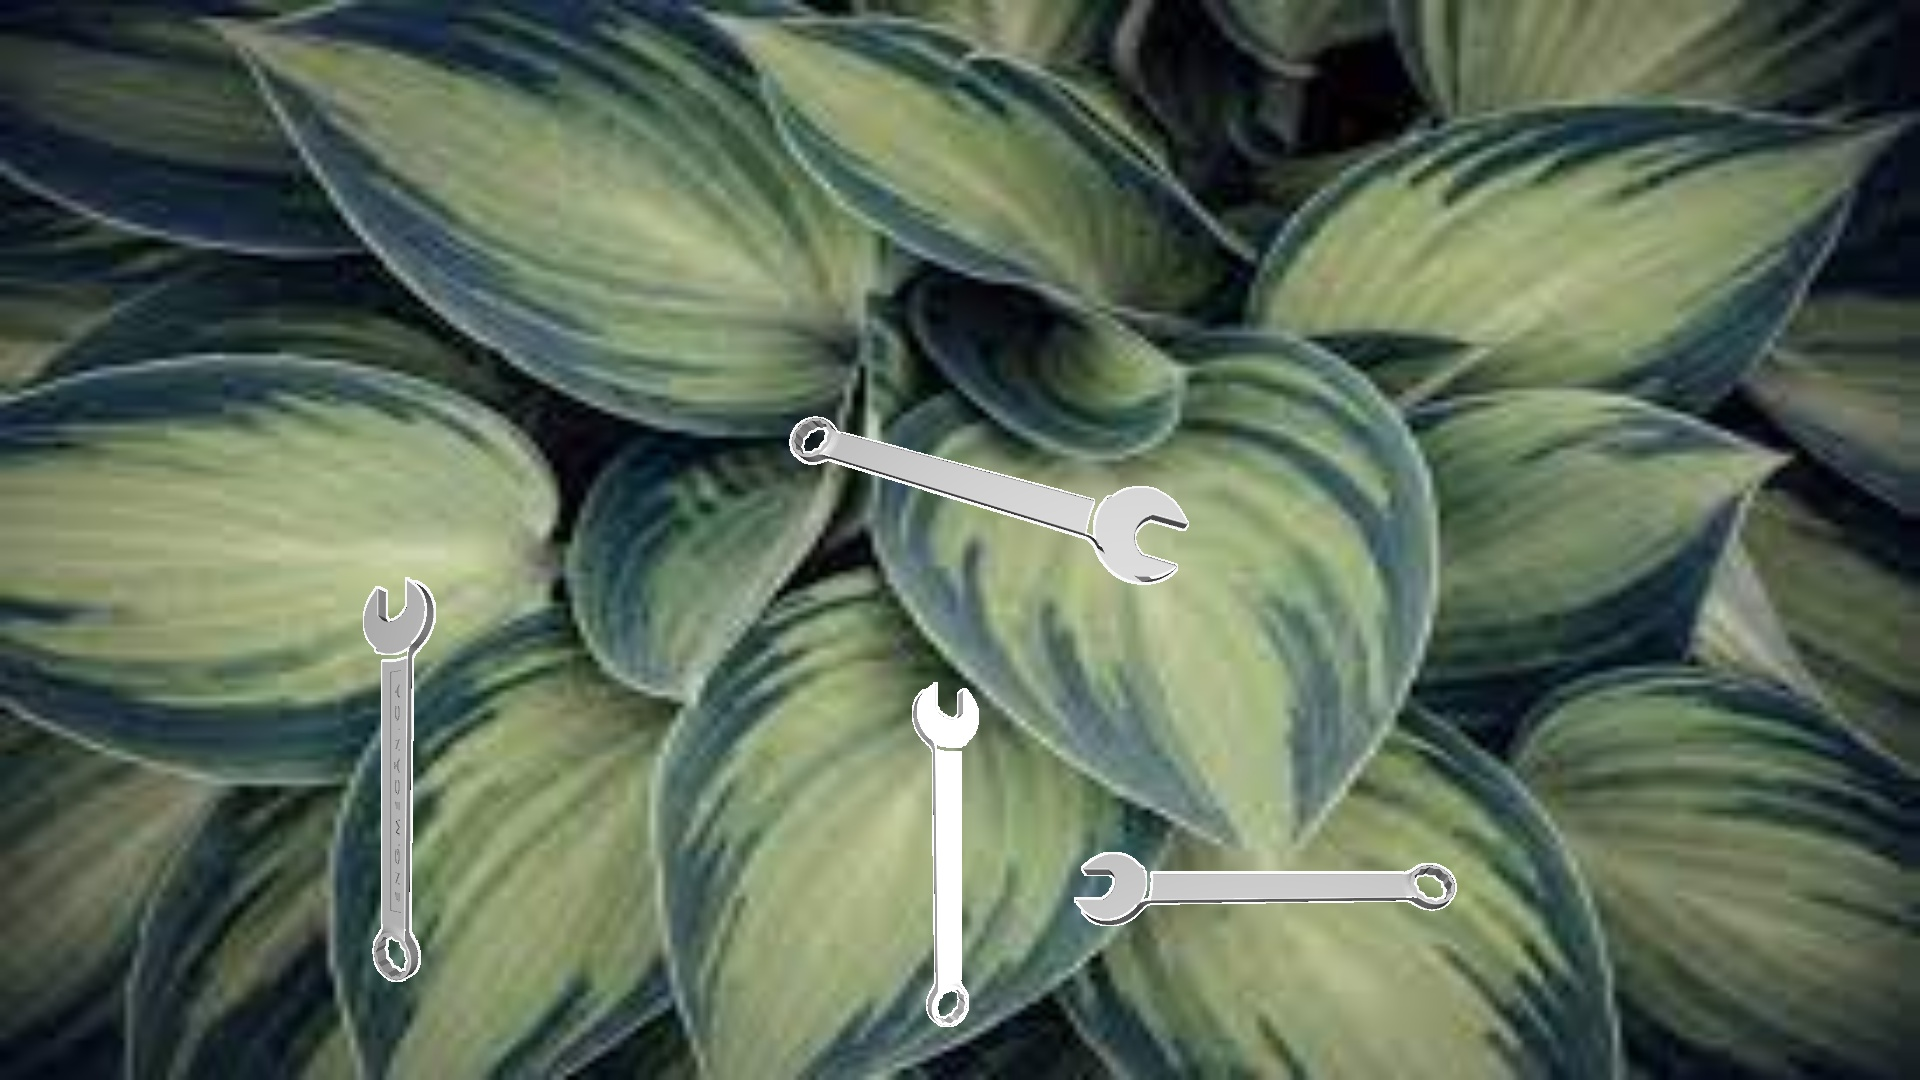Mixed Key: (789, 415, 1188, 584), (363, 578, 435, 981), (1073, 852, 1456, 924), (913, 682, 978, 1026)
